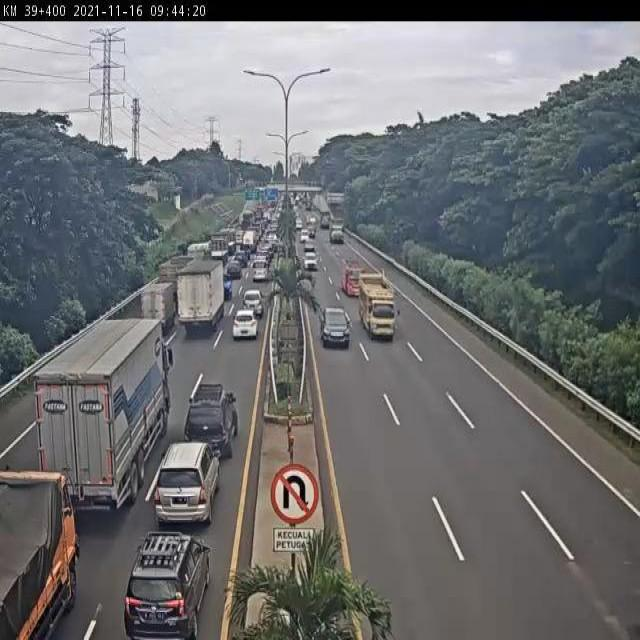car: (126, 524, 208, 629), (158, 436, 220, 511), (189, 380, 237, 452), (322, 303, 349, 347), (232, 308, 259, 343), (244, 288, 264, 316), (304, 249, 317, 271), (227, 260, 240, 279), (254, 260, 267, 279), (304, 239, 317, 252), (300, 230, 309, 242), (295, 217, 303, 227)
small truck: (138, 279, 170, 325), (343, 258, 361, 294), (329, 222, 345, 246), (308, 214, 318, 230), (321, 213, 329, 230)
truck-l-: (34, 319, 174, 512), (210, 235, 229, 262)
truck-m-: (0, 469, 72, 640), (177, 258, 227, 338), (360, 268, 400, 333)
